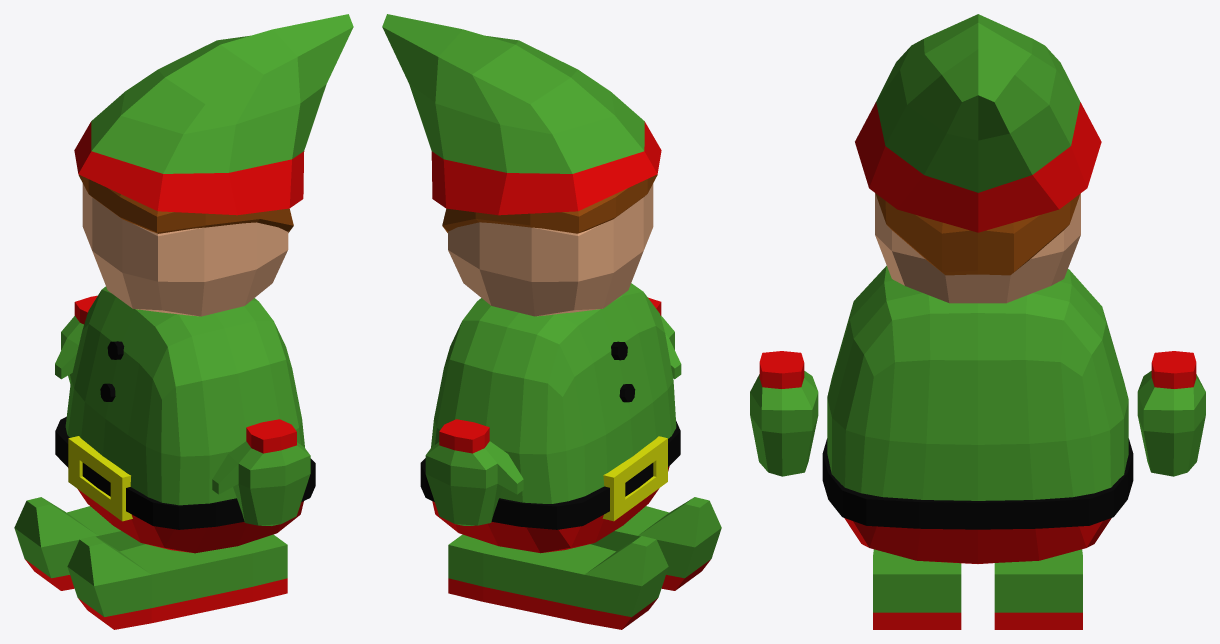
The model's file is Elf-base.fbx.
The picture shows the model from 3 angles, left to right: view 1: azimuth 30°, elevation 25°; view 2: azimuth 150°, elevation 25°; view 3: azimuth 270°, elevation 25°; orthographic projection. The views are drawn at different scales.
Parts seen in each view (by area): view 1: Elf_Body_1, Elf_hat, Elf_head, Elf_Left_shoe, Elf_Left_hand, Elf_Right_shoe, Elf_blet_1, Elf_hair_1, Elf_Belt_buckle_1, Elf_Right_hand; view 2: Elf_Body_1, Elf_hat, Elf_head, Elf_Right_shoe, Elf_Right_hand, Elf_Left_shoe, Elf_blet_1, Elf_hair_1, Elf_Belt_buckle_1, Elf_Left_hand; view 3: Elf_Body_1, Elf_hat, Elf_blet_1, Elf_hair_1, Elf_head, Elf_Right_hand, Elf_Left_hand, Elf_Right_shoe, Elf_Left_shoe.
Boxes of the visible parts, left/top/right/bottom form: Elf_Body_1: left=65, top=286, right=304, bottom=553; Elf_hat: left=74, top=14, right=353, bottom=215; Elf_head: left=82, top=183, right=288, bottom=316; Elf_Left_shoe: left=67, top=534, right=287, bottom=629; Elf_Left_hand: left=212, top=419, right=310, bottom=525; Elf_Right_shoe: left=14, top=497, right=145, bottom=590; Elf_blet_1: left=55, top=417, right=315, bottom=529; Elf_hair_1: left=78, top=174, right=293, bottom=233; Elf_Belt_buckle_1: left=68, top=436, right=132, bottom=521; Elf_Right_hand: left=55, top=295, right=97, bottom=384; Elf_Body_1: left=431, top=283, right=676, bottom=553; Elf_hat: left=382, top=14, right=661, bottom=215; Elf_head: left=448, top=183, right=653, bottom=316; Elf_Right_shoe: left=448, top=534, right=668, bottom=629; Elf_Right_hand: left=425, top=419, right=523, bottom=525; Elf_Left_shoe: left=590, top=497, right=721, bottom=590; Elf_blet_1: left=420, top=421, right=680, bottom=529; Elf_hair_1: left=442, top=174, right=657, bottom=233; Elf_Belt_buckle_1: left=602, top=436, right=667, bottom=521; Elf_Left_hand: left=648, top=297, right=681, bottom=379; Elf_Body_1: left=827, top=265, right=1128, bottom=563; Elf_hat: left=855, top=14, right=1101, bottom=232; Elf_blet_1: left=822, top=438, right=1133, bottom=529; Elf_hair_1: left=875, top=193, right=1079, bottom=275; Elf_head: left=875, top=193, right=1080, bottom=303; Elf_Right_hand: left=1137, top=351, right=1205, bottom=476; Elf_Left_hand: left=750, top=351, right=818, bottom=476; Elf_Right_shoe: left=994, top=549, right=1082, bottom=629; Elf_Left_shoe: left=873, top=549, right=961, bottom=629.
Size of the model in its own units: 29.45 by 49.95 by 34.51.
